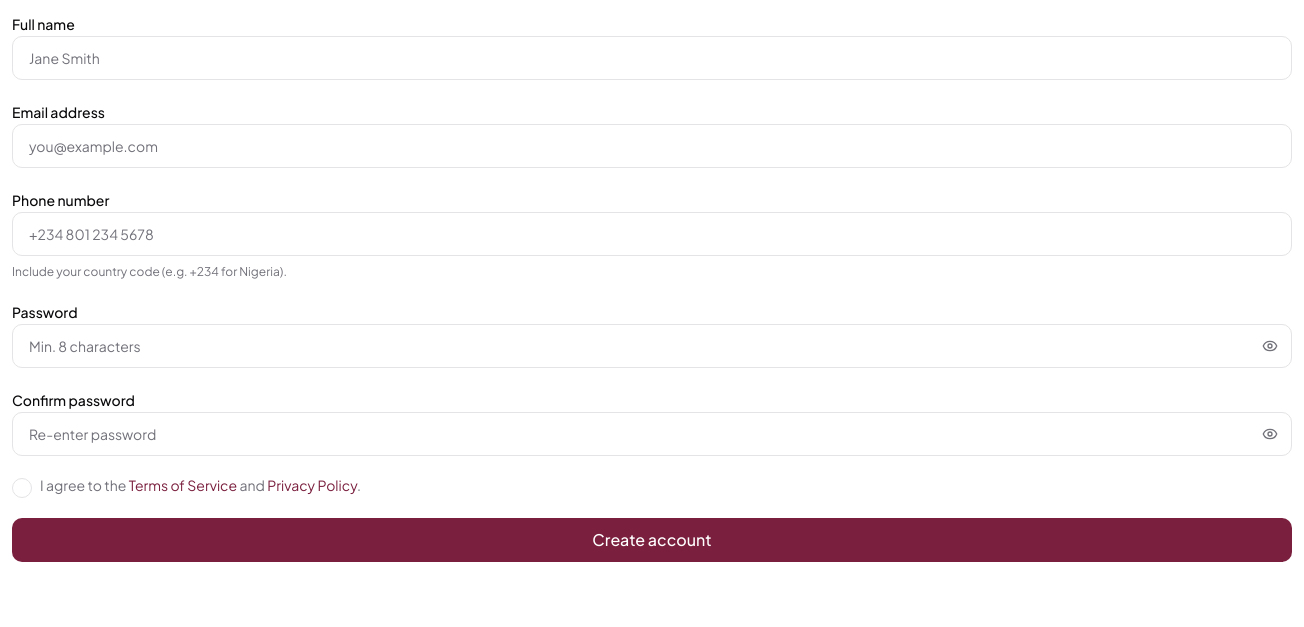
Scenario: RegisterForm (F8.3) › maps server field errors from 422 response onto the correct fields
In the field labelled "Full name": (652, 58) 12,36 -> 1292,80, type "Collins Okeke"
In the field labelled "Email address": (652, 146) 12,124 -> 1292,168, type "collins@example.com"
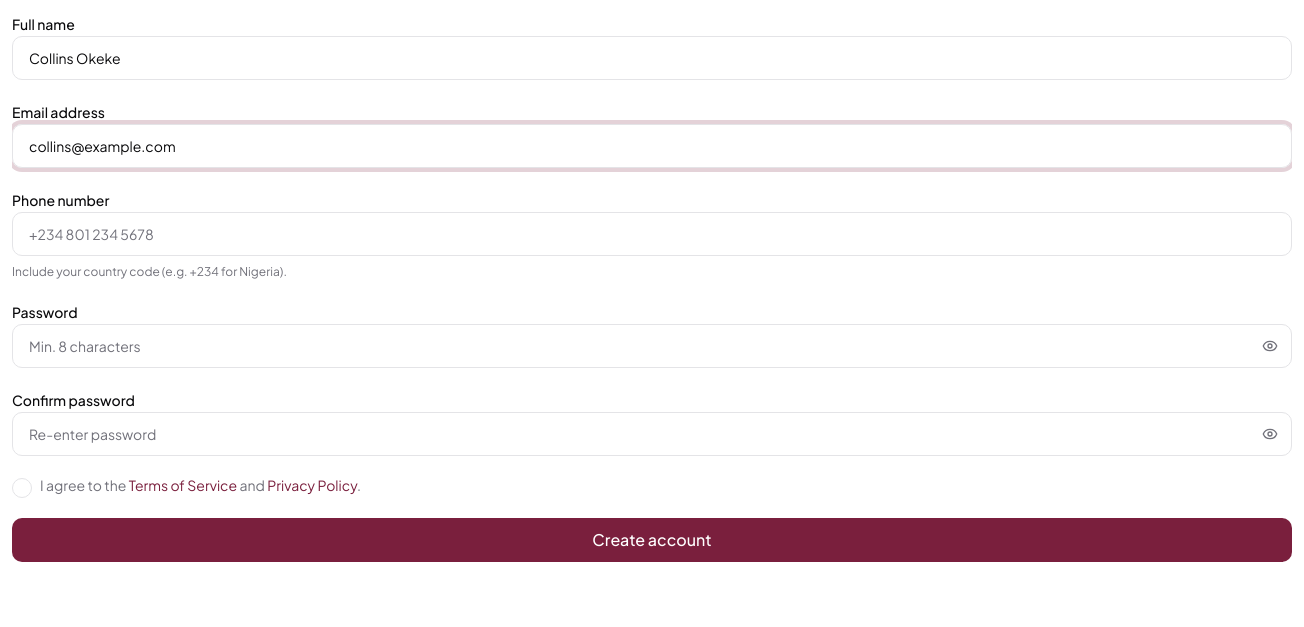
In the field labelled "Phone number": (652, 234) 12,212 -> 1292,256, type "+2348012345678"
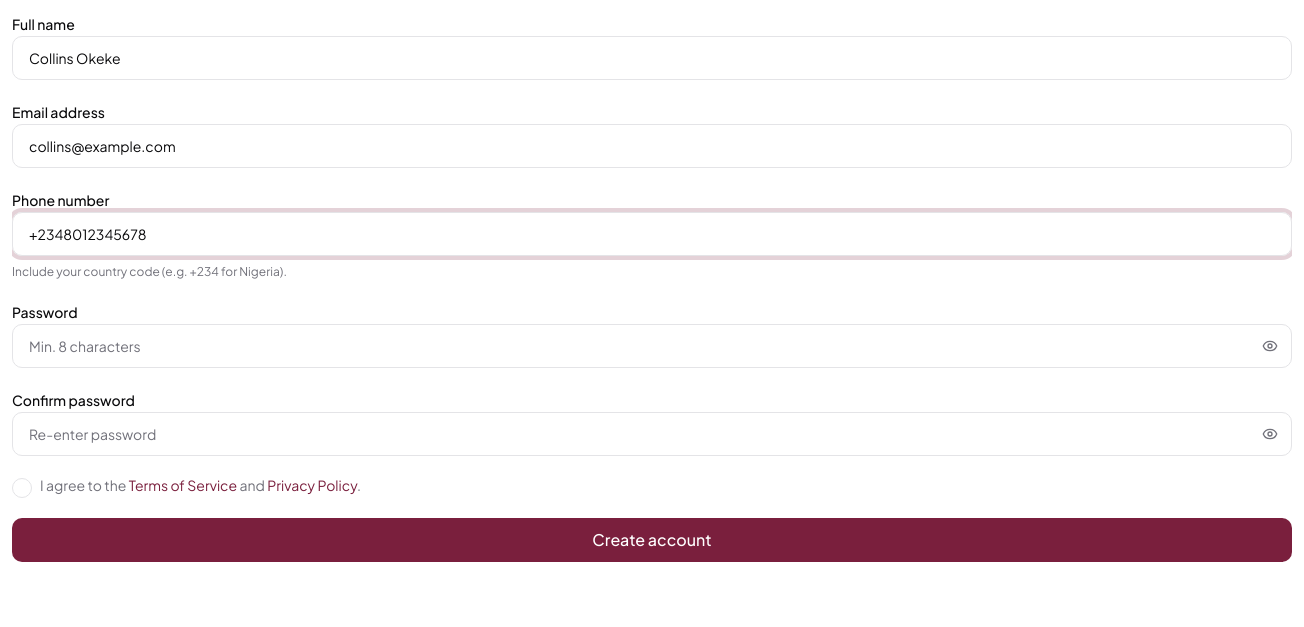
In the password field with placeholder "Min. 8 characters": (652, 346) 12,324 -> 1292,368, type "Secret123!"
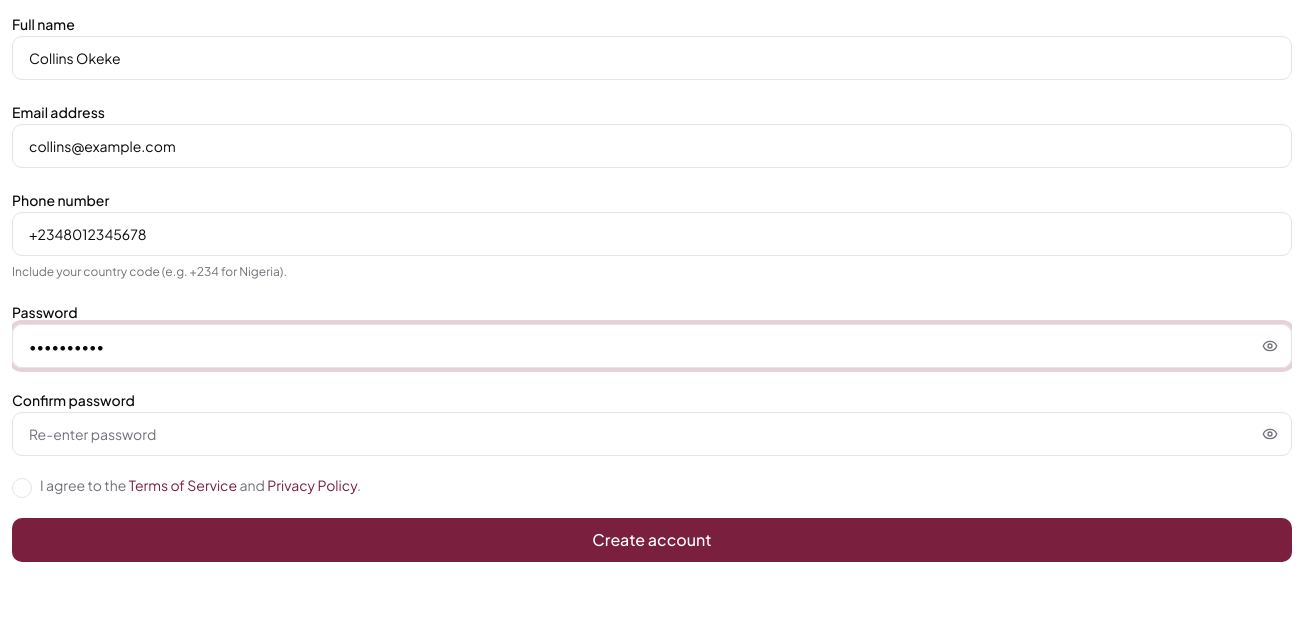
In the password field with placeholder "Re-enter password": (652, 434) 12,412 -> 1292,456, type "Secret123!"
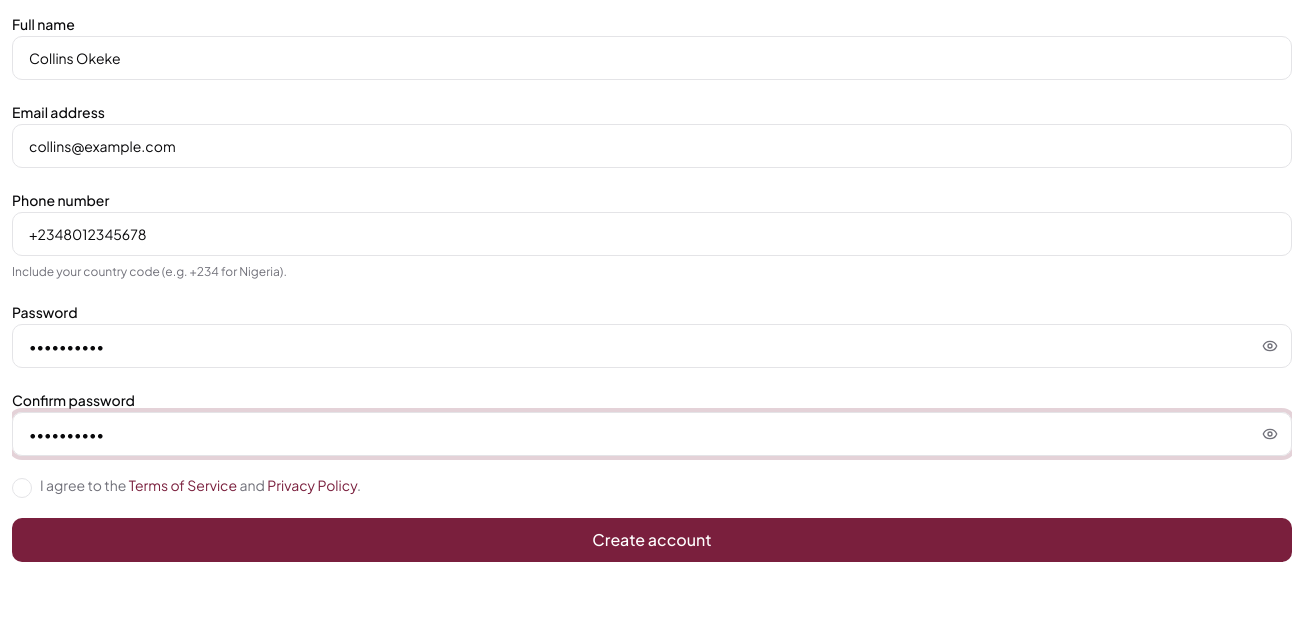
Click the checkbox: click(22, 488) 12,478 -> 32,498
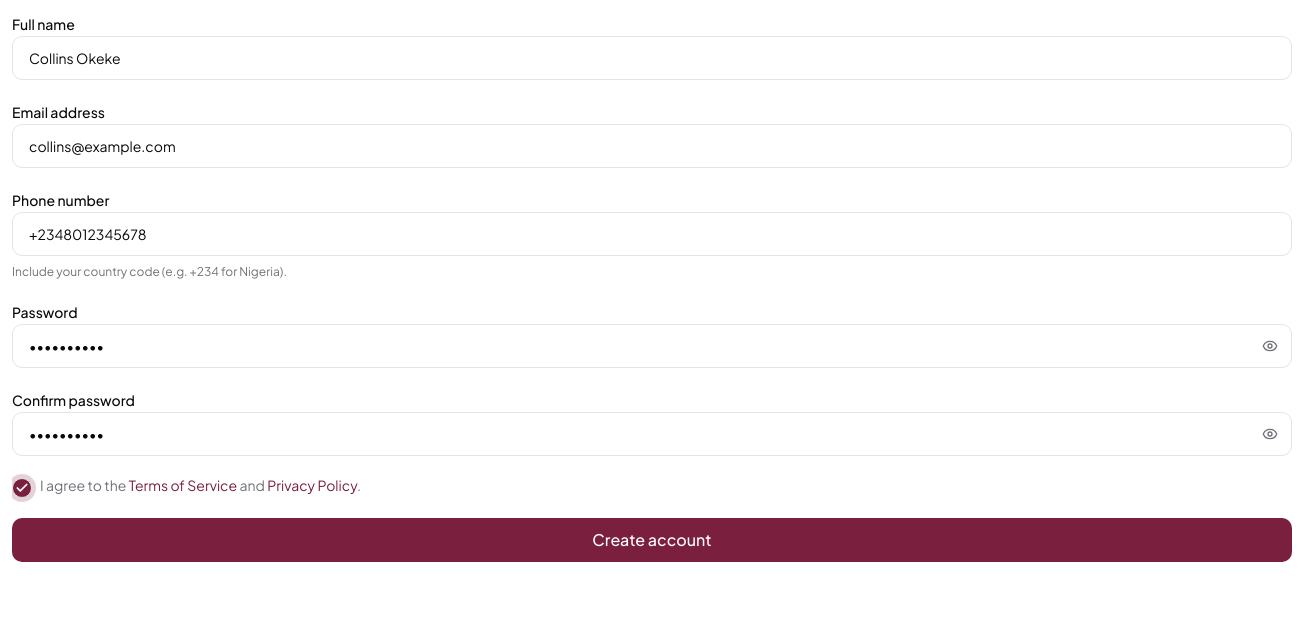
Click the button "Create account": click(652, 540) 12,518 -> 1292,562
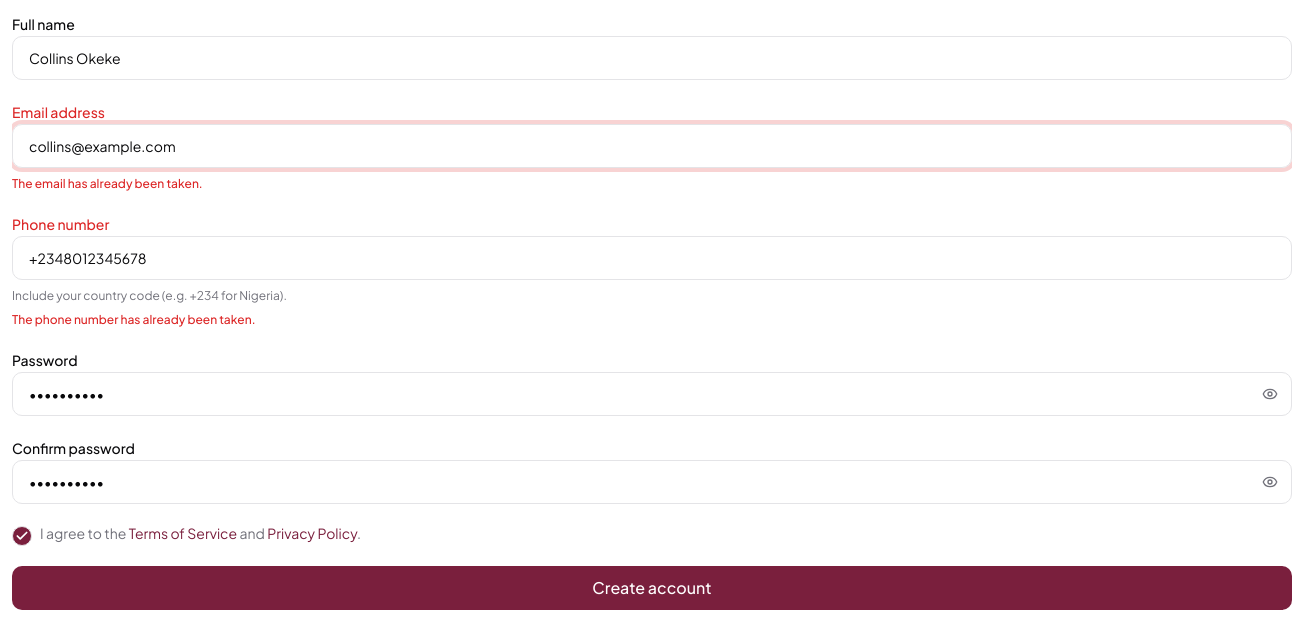
expect the text "The email has already been taken." is shown: met, box 12,176 -> 203,191
expect the text "The phone number has already been taken." is shown: met, box 12,312 -> 256,327
